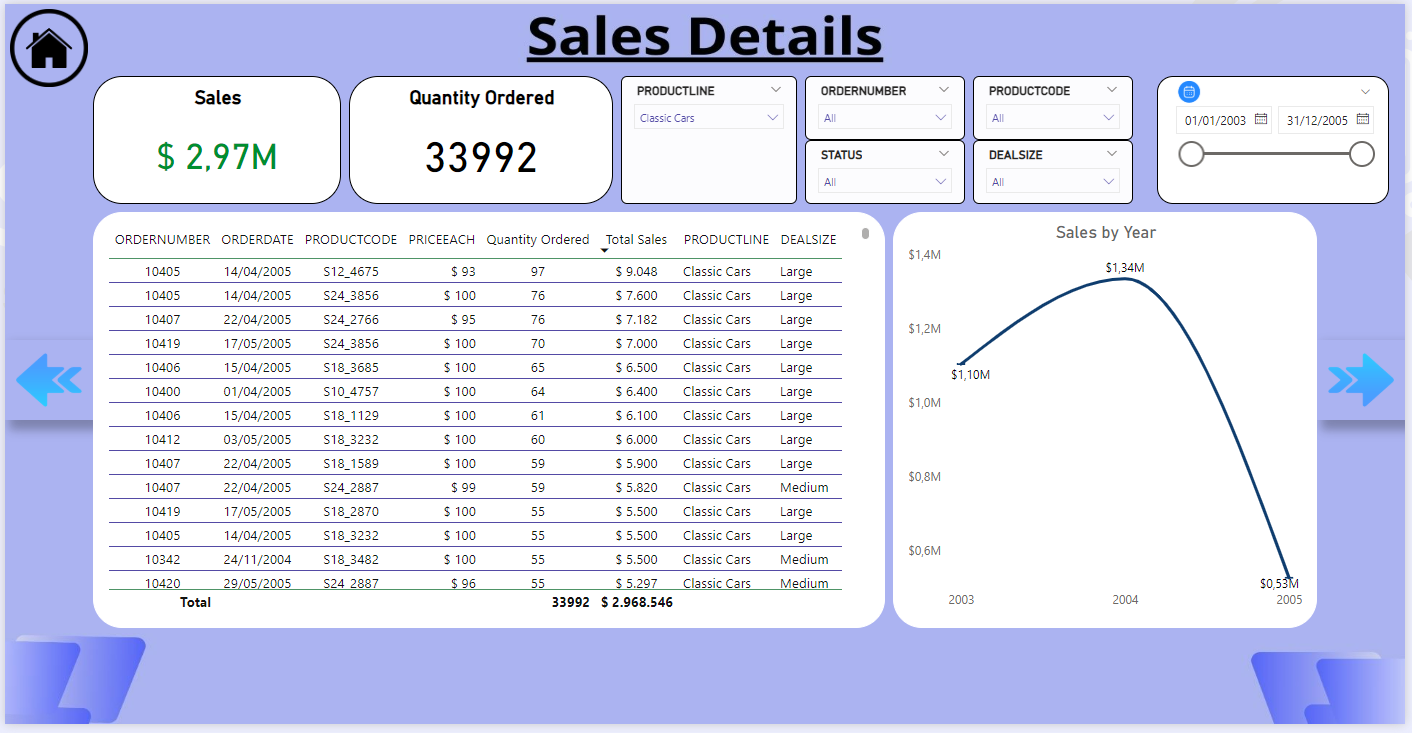

This screenshot's page, from the dashboard's own definition file:
{"tool":"powerbi","page":{"name":"Sales Details","canvas":[1400,720],"ordinal":6},"visuals":[{"type":"slicer","fields":{"Values":["Dim_Calendar.Date"]},"box":[1152,72,232,128],"z":0},{"type":"image","box":[1160,72,48,32],"z":1000},{"type":"image","box":[0,336,88,80],"z":2000},{"type":"image","box":[0,0,88,88],"z":3000},{"type":"tableEx","fields":{"Values":["Fact_Sales.ORDERNUMBER","Fact_Sales.ORDERDATE","Dim_Product.PRODUCTCODE","Fact_Sales.PRICEEACH","Measure.001$ Total_Quantity_Ordered","Measure.002 $ Total_Sales","Dim_Product.PRODUCTLINE","Dim_DealSize.DEALSIZE"]},"box":[88,208,792,416],"z":4000},{"type":"slicer","fields":{"Values":["Dim_DealSize.DEALSIZE"]},"box":[968,136,160,64],"z":5000},{"type":"slicer","fields":{"Values":["Dim_Status.STATUS"]},"box":[800,136,160,64],"z":6000},{"type":"image","box":[1312,336,88,80],"z":7000},{"type":"cardVisual","title":"Sales","fields":{"Data":["Measure.002 $ Total_Sales"]},"box":[88,72,248,128],"z":8000},{"type":"cardVisual","title":"Quantity Ordered","fields":{"Data":["Measure.001 $ Total_Quantity_Ordered"]},"box":[344,72,264,128],"z":9000},{"type":"slicer","fields":{"Values":["Dim_Product.PRODUCTCODE"]},"box":[968,72,160,64],"z":10000},{"type":"slicer","fields":{"Values":["Fact_Sales.ORDERNUMBER"]},"box":[800,72,160,64],"z":11000},{"type":"lineChart","title":"Sales by Year","fields":{"Y":["Measure.002 $ Total_Sales"],"Category":["Dim_Calendar.Year"]},"box":[888,208,424,416],"z":12000},{"type":"slicer","fields":{"Values":["Dim_Product.PRODUCTLINE"]},"box":[616,72,176,128],"z":13000}]}

Visuals, with their boxes in screenshot pixels (x1, y1, x2, y2), scaled from the page's 1400x720 canvas onto the 1412x733 screenshot:
slicer - Dim_Calendar.Date: x1=1162, y1=73, x2=1396, y2=204
image: x1=1170, y1=73, x2=1218, y2=106
image: x1=0, y1=342, x2=89, y2=424
image: x1=0, y1=0, x2=89, y2=90
tableEx - Fact_Sales.ORDERNUMBER x Fact_Sales.ORDERDATE: x1=89, y1=212, x2=888, y2=635
slicer - Dim_DealSize.DEALSIZE: x1=976, y1=138, x2=1138, y2=204
slicer - Dim_Status.STATUS: x1=807, y1=138, x2=968, y2=204
image: x1=1323, y1=342, x2=1411, y2=424
"Sales" cardVisual: x1=89, y1=73, x2=339, y2=204
"Quantity Ordered" cardVisual: x1=347, y1=73, x2=613, y2=204
slicer - Dim_Product.PRODUCTCODE: x1=976, y1=73, x2=1138, y2=138
slicer - Fact_Sales.ORDERNUMBER: x1=807, y1=73, x2=968, y2=138
"Sales by Year" lineChart: x1=896, y1=212, x2=1323, y2=635
slicer - Dim_Product.PRODUCTLINE: x1=621, y1=73, x2=799, y2=204
